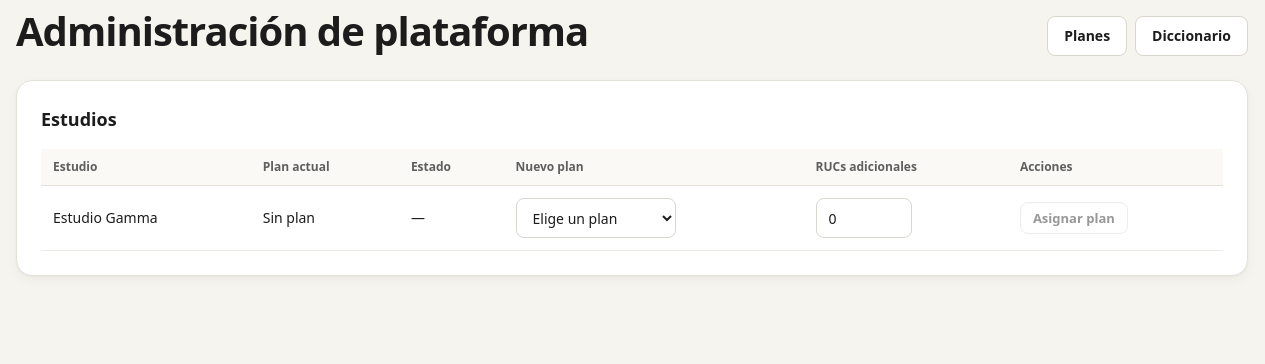
it: /admin › D14 · asignar un plan a un estudio sin plan: PUT /suscripcion { planId, rucsExtraContratados } con CSRF
Select "Estudio" in the dropdown named "Plan" at (596, 218), box 516,198 -> 676,238
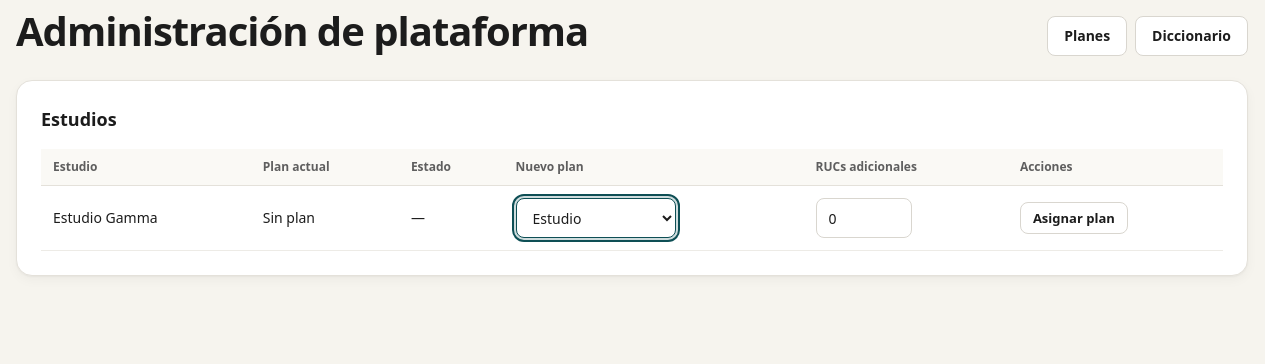
Click the button "Asignar plan" at (1074, 218), box 1020,202 -> 1128,234
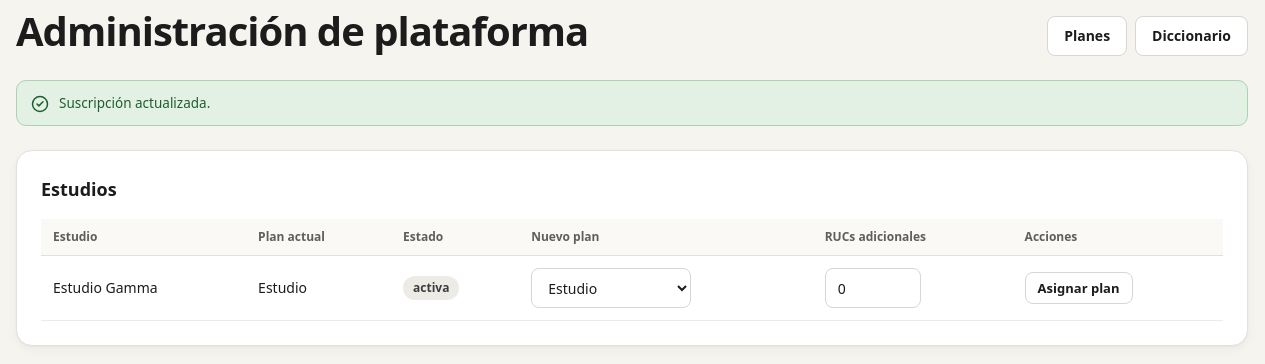
Check: the text "Suscripción actualizada." is shown, box 59,93 -> 210,113
